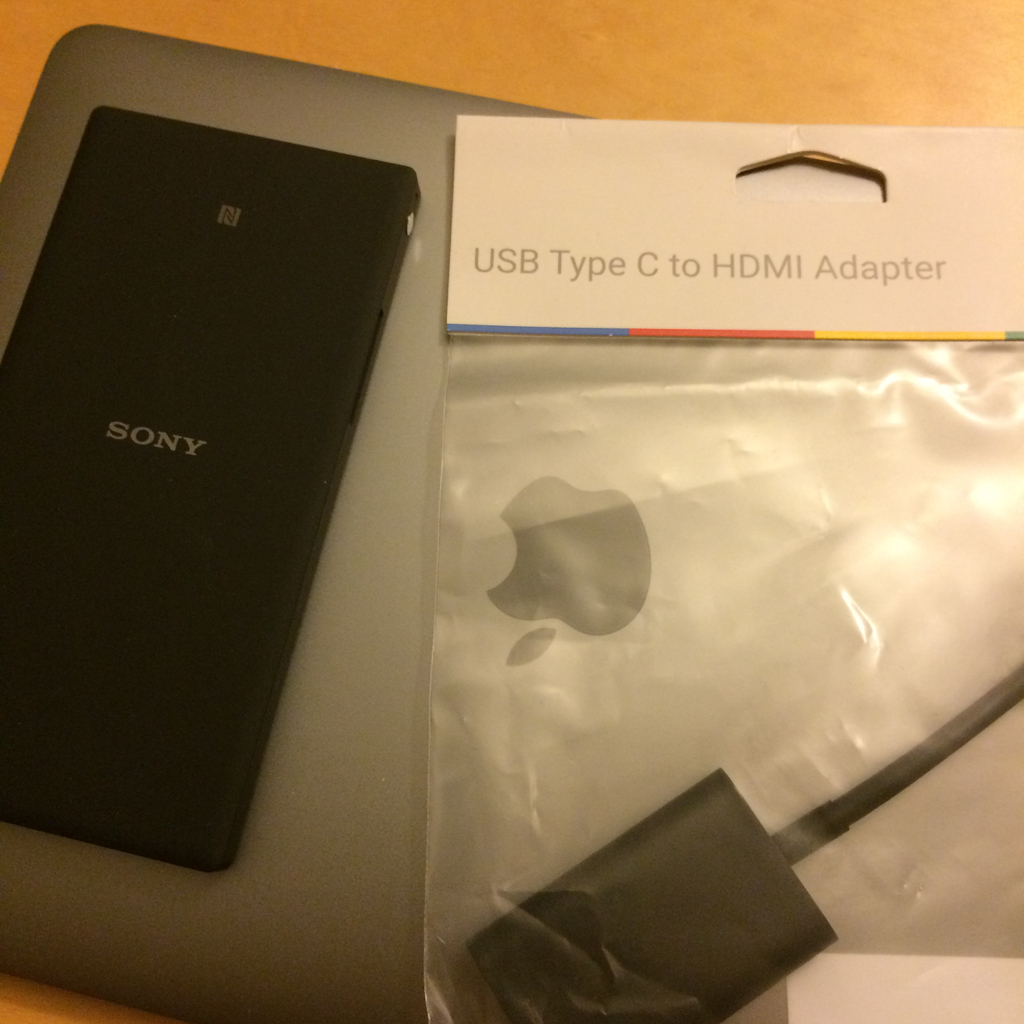Mobile-phone: (0, 113, 425, 873)
